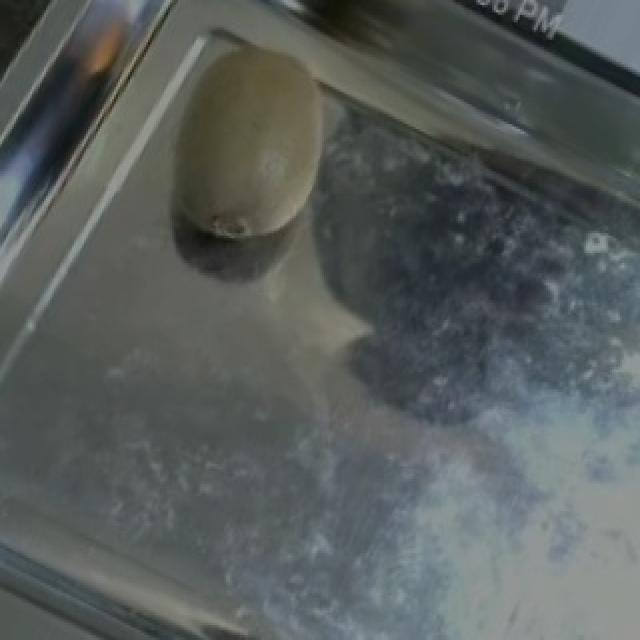Fruit: (124, 2, 376, 278)
